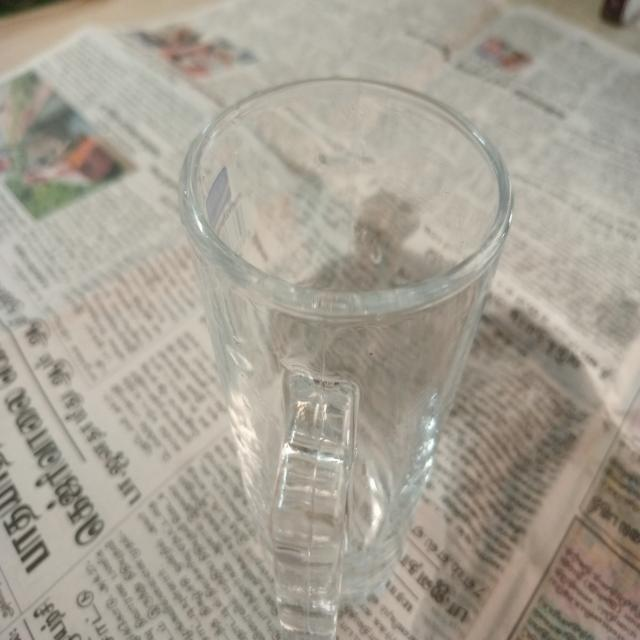glass-VX4N: (177, 75, 513, 640)
